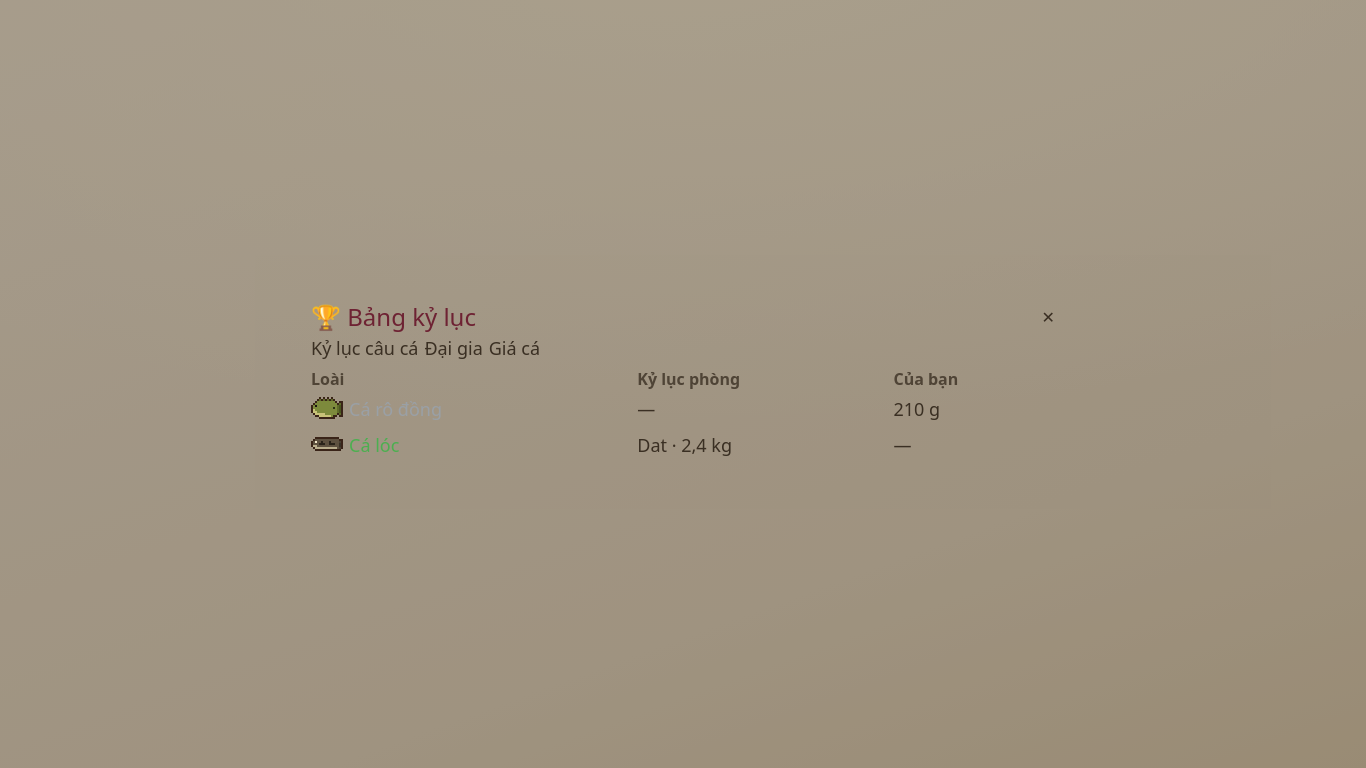
Test: RecordsPanel › shows the room records next to mine, and the richest members
The width and height of the screenshot is (1366, 768).
Expected: the text "Dat · 2,4 kg" is shown, [637, 427, 894, 463]
Expected: the text "210 g" is shown, [894, 391, 1055, 427]
Click the tab "Đại gia" at [454, 348], box [424, 337, 483, 359]
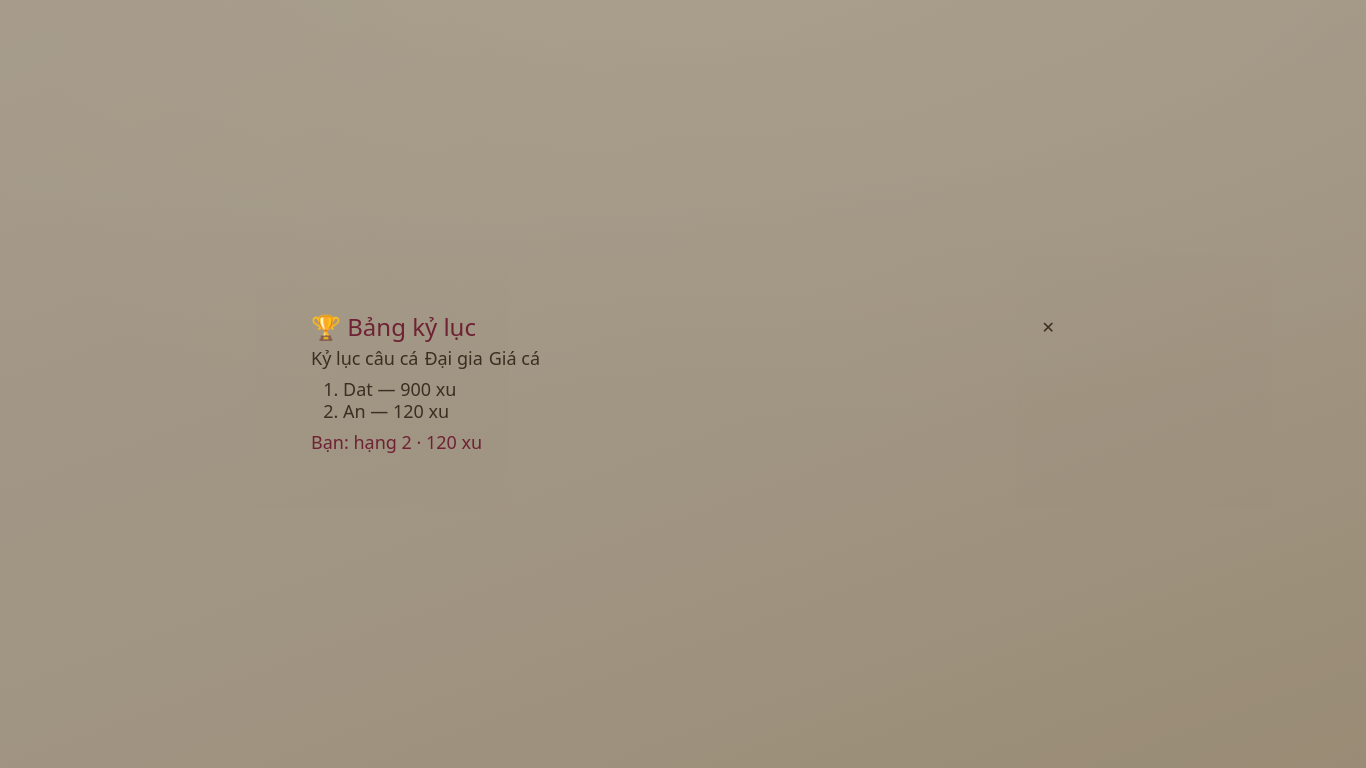
Result: the list item "Dat — 900 xu" is shown at [343, 376, 456, 400]
Result: the text "Bạn: hạng 2 · 120 xu" is shown at [311, 430, 482, 453]
